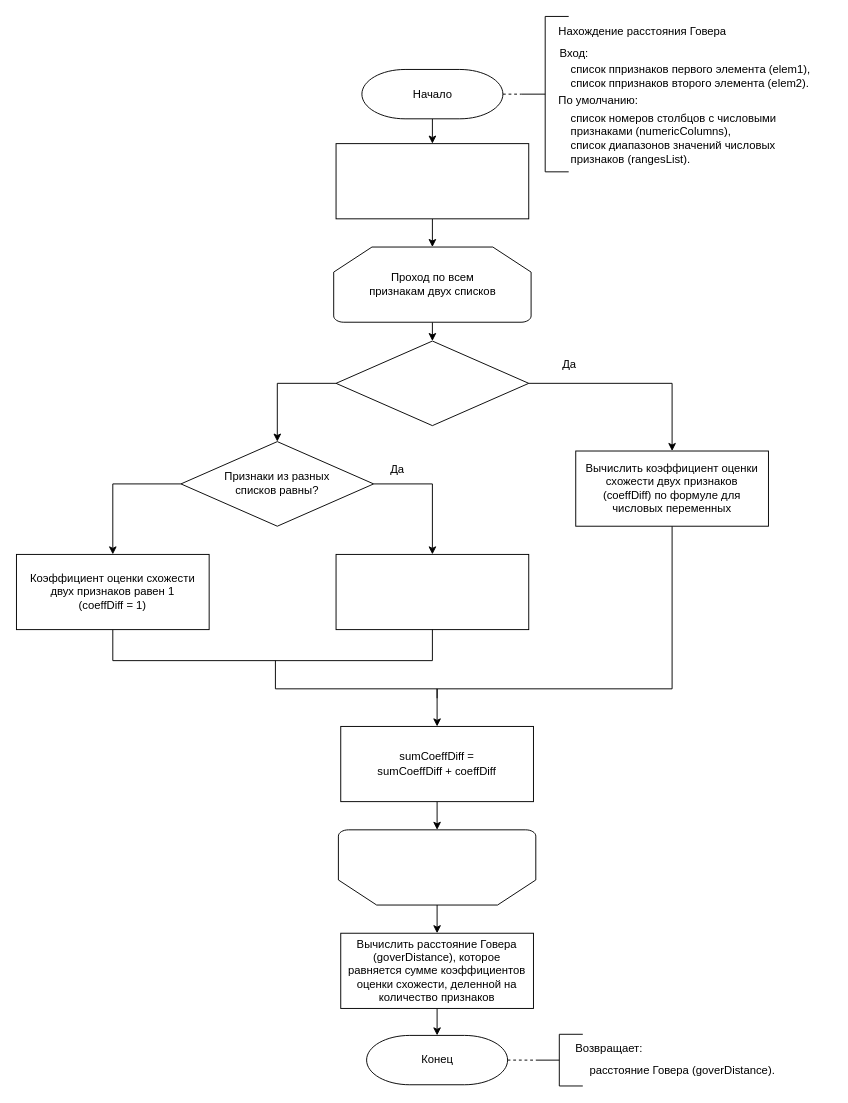
The diagram is 848 pixels wide and 1103 high, and some of its shapes have lost their labels. The shapes that lost their labels are listed below. From the top down, each one's centre as x and y in pixels, then its label:
pixel 432 181: Иницилизировать сумму коэффициентов оценки схожести (sumCoeffDiff = 0)
pixel 432 383: Номер столбца находится в списке numericColumns ?
pixel 432 591: Коэффициент оценки схожести двух признаков равен 0 (сoeffDiff = 0)
pixel 436 867: Конец прохода по признакам двух списков
